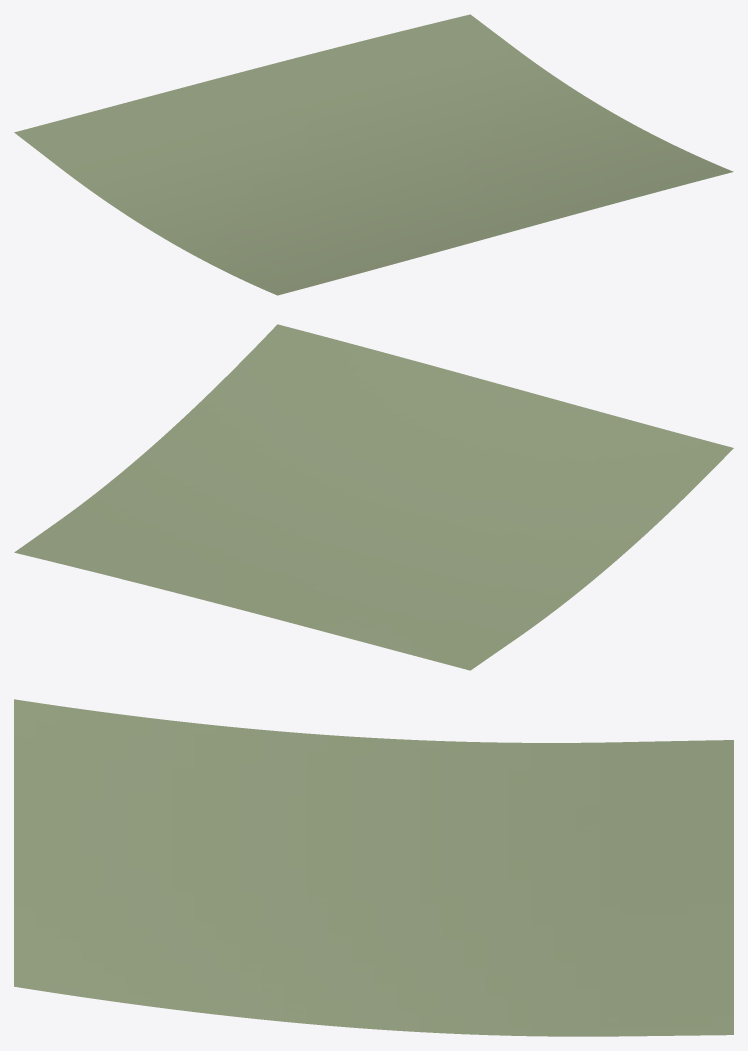
File: expanse-28-3.glb
3 renders of one model, top to bottom at view 1: azimuth 30°, elevation 25°; view 2: azimuth 150°, elevation 25°; view 3: azimuth 270°, elevation 25°, orthographic. The views are drawn at different scales.
Visible parts, largest first — view 1: expanse-28-3; view 2: expanse-28-3; view 3: expanse-28-3.
Boxes of the visible parts, x1,y1,x2,y2 form: expanse-28-3: (14, 14, 733, 295); expanse-28-3: (14, 324, 733, 670); expanse-28-3: (14, 699, 733, 1036).
Bounding box in the file's own units: 256 × 23.76 × 256.
